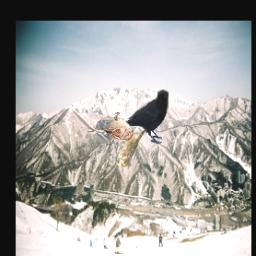Crow: (117, 91, 169, 145)
Sparrow: (87, 113, 134, 142), (116, 130, 145, 168)
